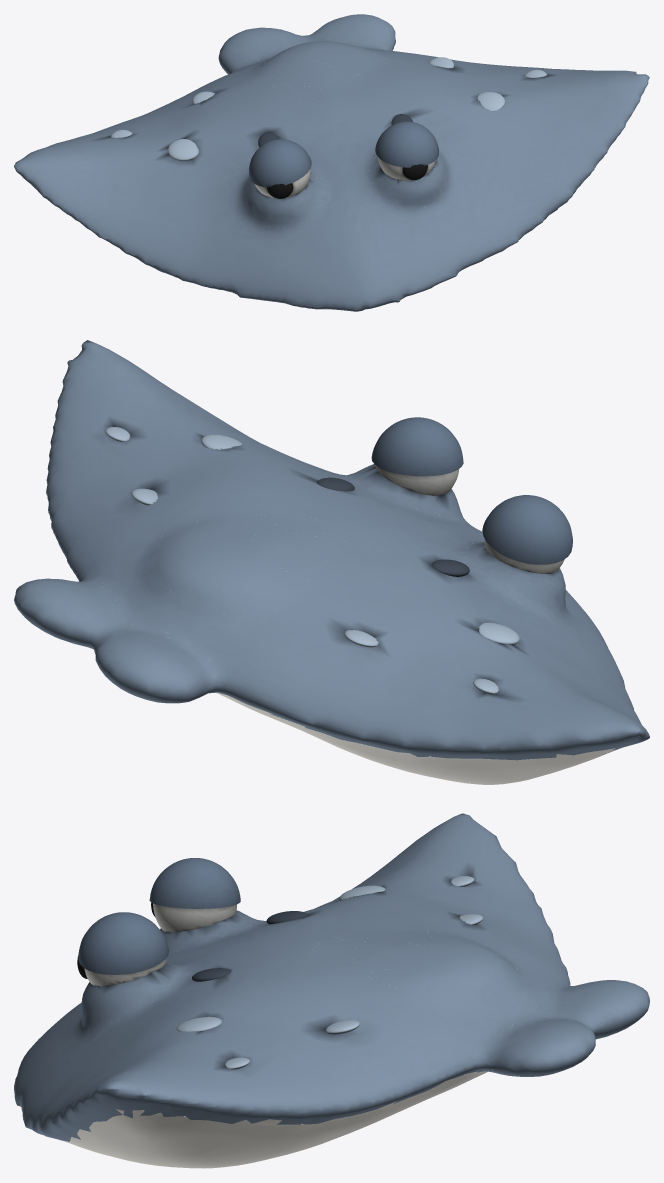
File: vad-ska-vi-gora.glb
The picture shows the model from 3 angles, top to bottom: view 1: azimuth 30°, elevation 25°; view 2: azimuth 150°, elevation 25°; view 3: azimuth 270°, elevation 25°; orthographic projection. The views are drawn at different scales.
Visible parts, largest first — view 1: arraia__r0, arraia__r13, arraia__r3, arraia__r5; view 2: arraia__r0, arraia__r13, arraia__r3, arraia__r1, arraia__r11, arraia__r5; view 3: arraia__r0, arraia__r3, arraia__r13, arraia__r11, arraia__r1, arraia__r8.
Boxes of the visible parts, x1,y1,x2,y2 form: arraia__r0: [14, 14, 649, 311]; arraia__r13: [249, 139, 311, 187]; arraia__r3: [375, 121, 438, 167]; arraia__r5: [167, 139, 198, 160]; arraia__r0: [14, 340, 649, 784]; arraia__r13: [482, 495, 572, 564]; arraia__r3: [371, 417, 463, 476]; arraia__r1: [375, 465, 459, 495]; arraia__r11: [484, 539, 564, 573]; arraia__r5: [478, 622, 519, 644]; arraia__r0: [14, 813, 649, 1168]; arraia__r3: [78, 912, 169, 974]; arraia__r13: [149, 858, 240, 908]; arraia__r11: [153, 903, 236, 932]; arraia__r1: [84, 959, 165, 986]; arraia__r8: [176, 1016, 222, 1031].
Bounding box in the file's own units: 1.76 × 0.5136 × 1.33.
